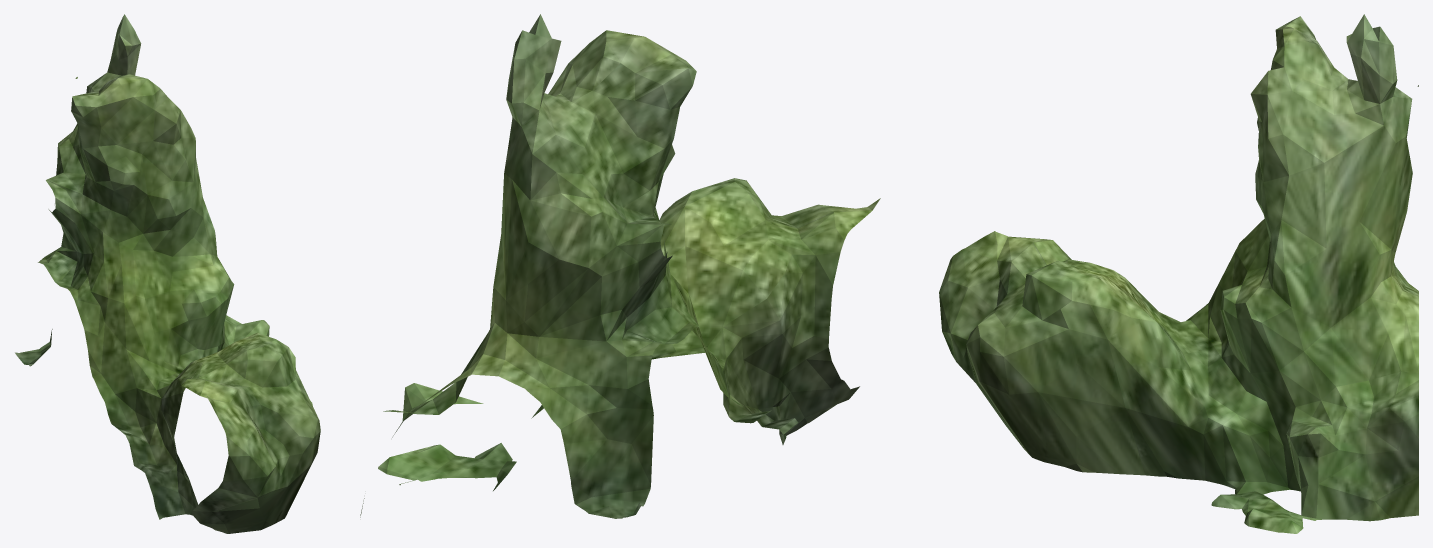
The picture shows the model from 3 angles, left to right: view 1: azimuth 30°, elevation 25°; view 2: azimuth 150°, elevation 25°; view 3: azimuth 270°, elevation 25°; orthographic projection. The views are drawn at different scales.
Size of the model in its own units: 2.92 by 4.68 by 4.64.
Materials: 2 (2 with a texture image).
